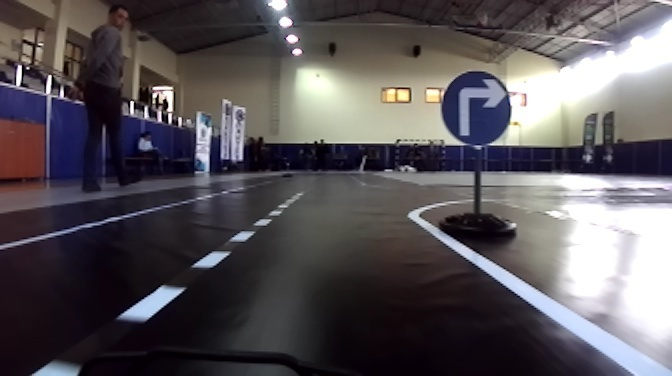saga_donus: (441, 73, 510, 146)
